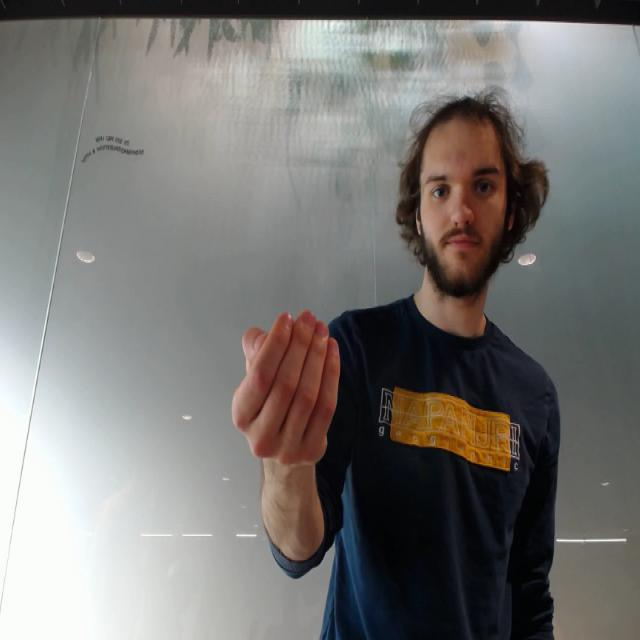forward: (229, 306, 347, 478)
